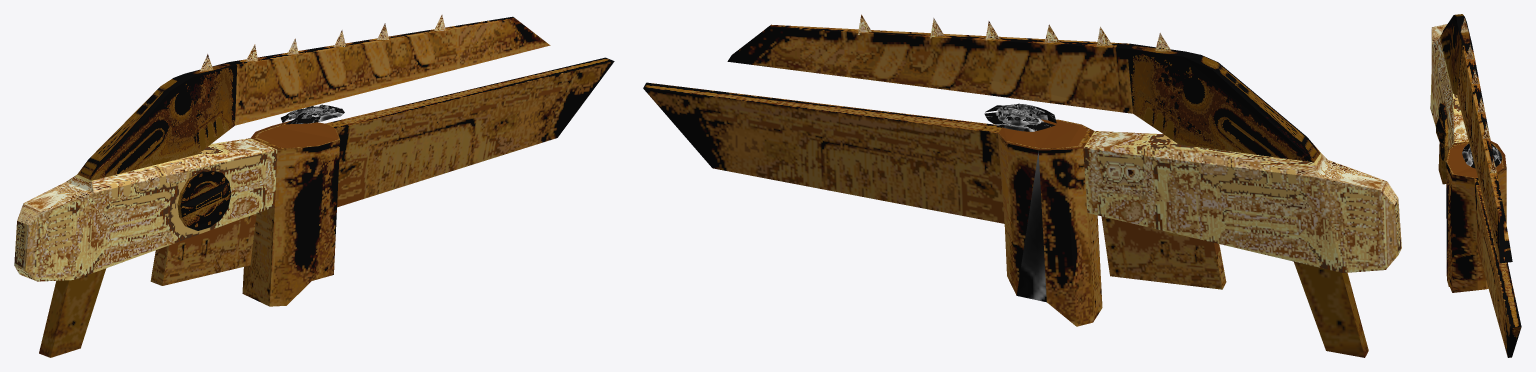
The model's file is ripper.gltf.
The picture shows the model from 3 angles, left to right: view 1: azimuth 30°, elevation 25°; view 2: azimuth 150°, elevation 25°; view 3: azimuth 270°, elevation 25°; orthographic projection. The views are drawn at different scales.
Visible parts, largest first — view 1: ripper; view 2: ripper; view 3: ripper.
Boxes of the visible parts, x1,y1,x2,y2 form: ripper: (14,14,614,357); ripper: (643,14,1401,357); ripper: (1430,14,1521,357).
Size of the model in its own units: 0.1598 by 0.0632 by 0.0219.
Materials: 5 (5 with a texture image).
